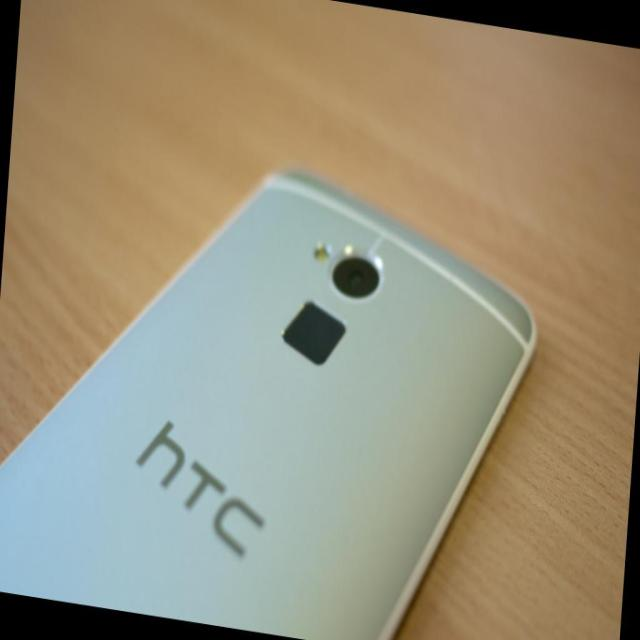handphone: (7, 173, 538, 600)
